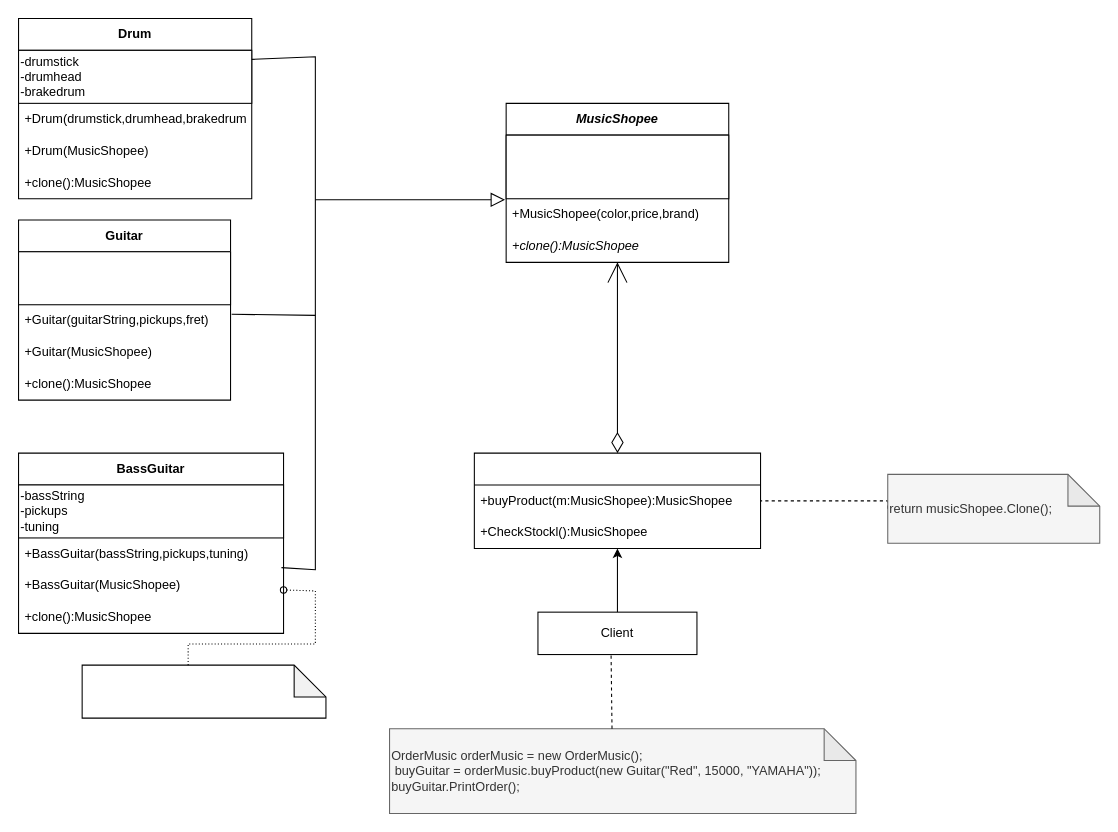
The diagram is 1118 pixels wide and 832 high, and some of its shapes have lost their labels. Each missing label, with the box of its shape:
-color -price -brand: (505, 134, 729, 199)
-guitarString -pickups -fret: (17, 251, 231, 305)
OrderMusic: (473, 452, 761, 549)
return new BassGuitar(this): (81, 664, 326, 718)
